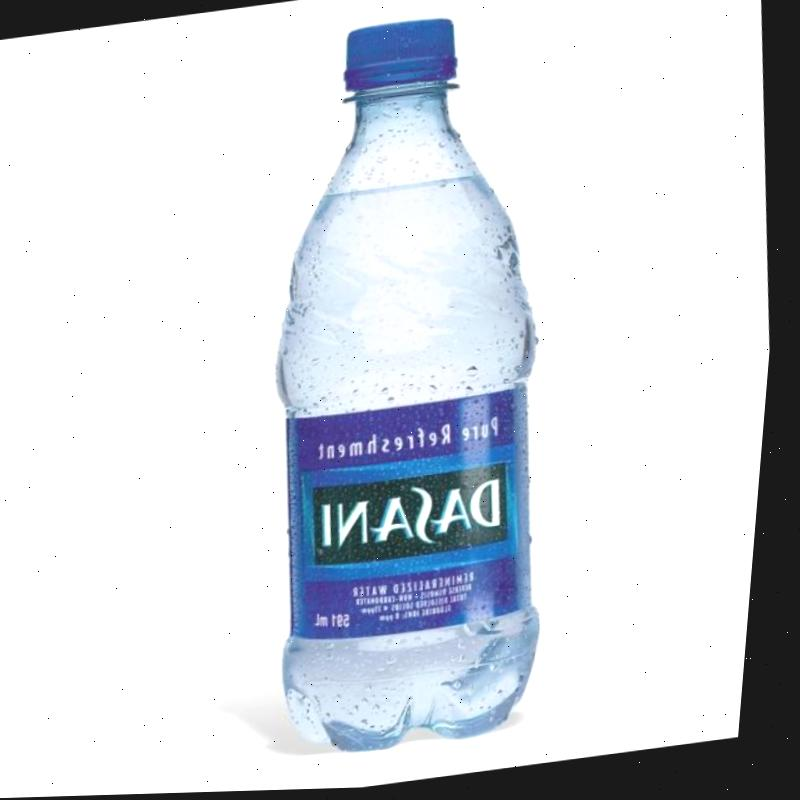botella: (213, 0, 601, 764)
